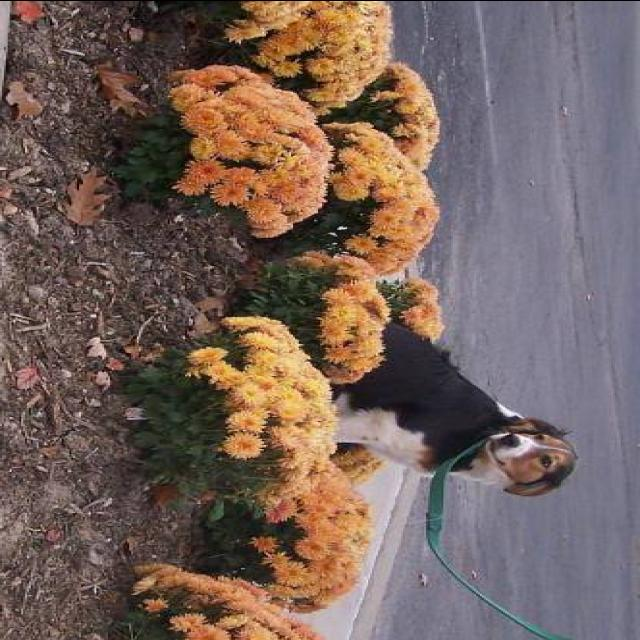dog: (308, 304, 586, 520)
